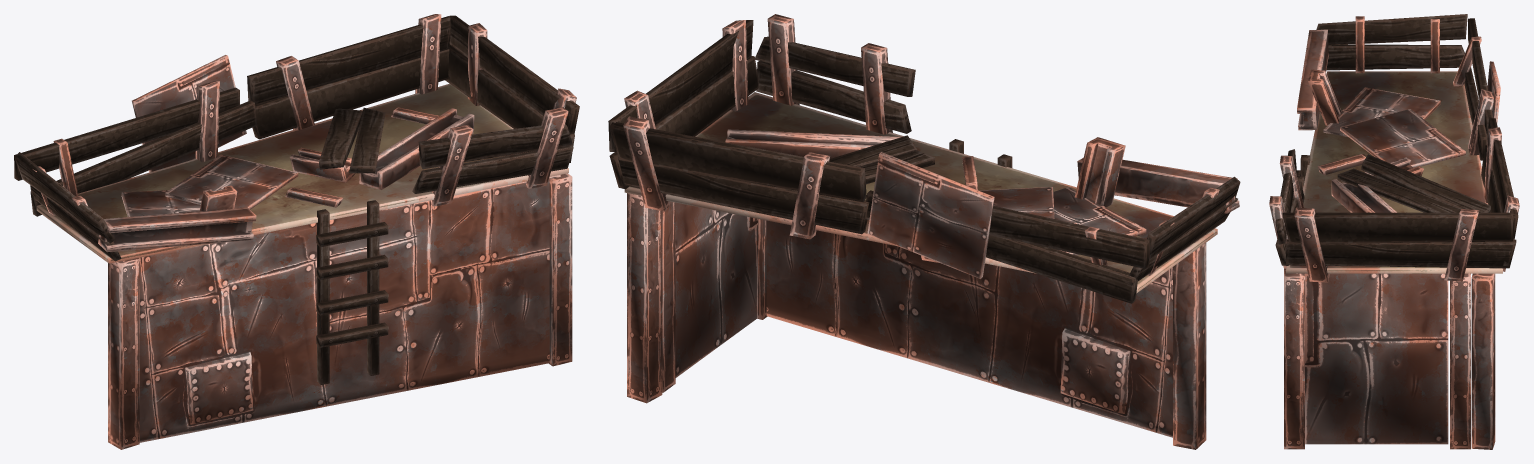
File: rpop_estructura_orka_v01.gltf
3 views of the same model, side by side, from view 1: azimuth 30°, elevation 25°; view 2: azimuth 150°, elevation 25°; view 3: azimuth 270°, elevation 25° (orthographic). The views are drawn at different scales.
Parts seen in each view (by area): view 1: Pared_lateral_low.004; view 2: Pared_lateral_low.004; view 3: Pared_lateral_low.004.
Boxes of the visible parts, x1,y1,x2,y2 form: Pared_lateral_low.004: [14, 14, 579, 449]; Pared_lateral_low.004: [608, 14, 1240, 449]; Pared_lateral_low.004: [1269, 14, 1519, 449].
Size of the model in its own units: 8.72 by 4.91 by 4.33.
